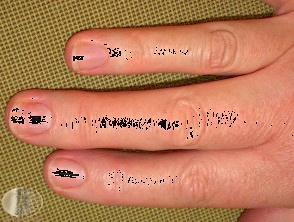Nail_psoriasis: (0, 86, 65, 153), (63, 31, 125, 86), (42, 154, 94, 195)
